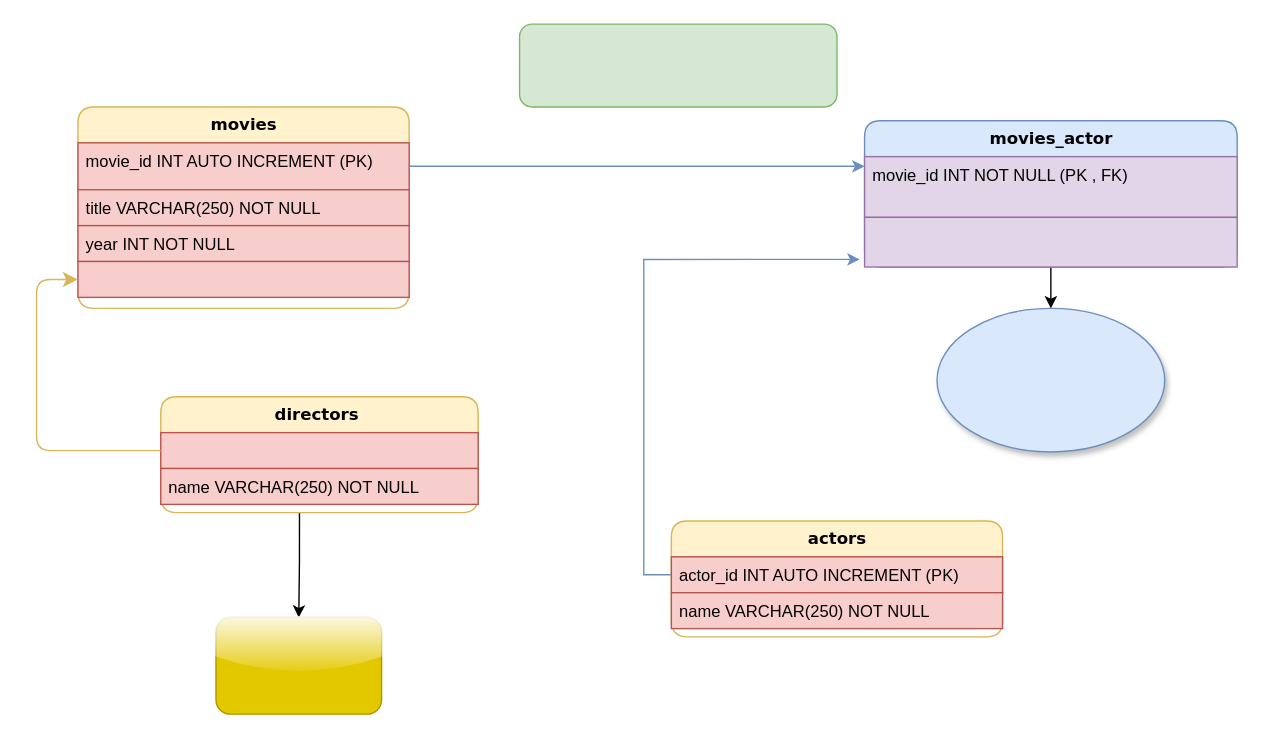
Some shapes in this 1261 by 738 pixel diagram are drawn without their labels. The centre of each missing label's shape, as x and y in pixels:
actor_id INT NOT NULL (PK , FK): [1050,241]
director_id INT AUTO INCREMENT (PK): [318,450]
director_id INT NOT NULL (FK): [243,278]
MOVIES SCHEMA DESIGN: [677,65]
Relation movies:actors M:M: [1051,382]
Relation movies:directors m:1: [298,665]
